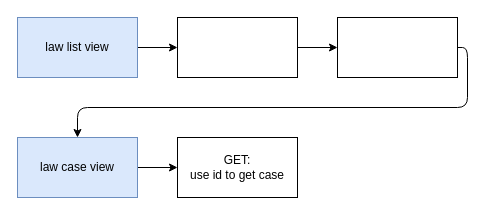
This 493x215 diagram has some shape labels left out. The shapes that lost their labels are listed below. From the top down, each one's box as (x1, y1, x2, y2) in pixels, then its label:
(176, 16, 298, 78): GET: except jfull
(336, 16, 458, 78): Click {i} case
